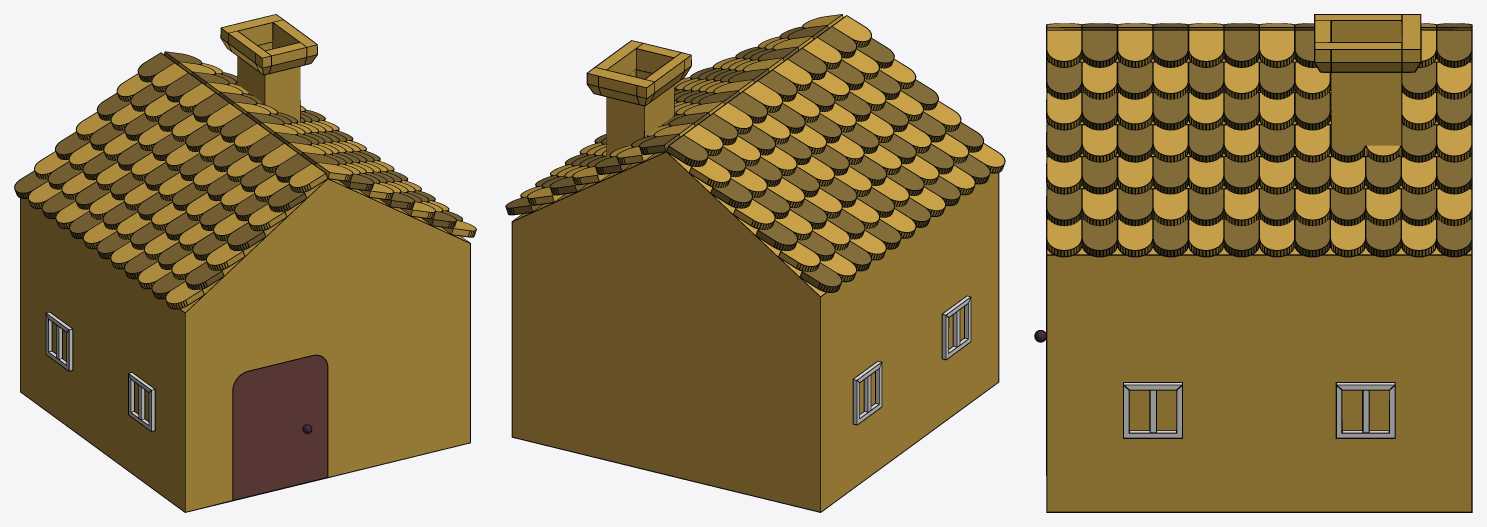
3 renders of one model, left to right at view 1: azimuth 30°, elevation 25°; view 2: azimuth 150°, elevation 25°; view 3: azimuth 270°, elevation 25°, orthographic. The views are drawn at different scales.
Visible parts, largest first — view 1: House.001, Bricks_Left.001, Door.001, Bricks_Right.001, Chimney.001, Window_Left_Left.001, Window_Left_Right.001; view 2: House.001, Bricks_Left.001, Bricks_Right.001, Chimney.001, Window_Left_Right.001, Window_Left_Left.001; view 3: House.001, Bricks_Right.001, Chimney.001, Bricks_Left.001, Window_Right_Right.001, Window_Right_Left.001.
Boxes of the visible parts, x1=… form: House.001: x1=20, y1=178, x2=470, y2=512; Bricks_Left.001: x1=14, y1=52, x2=327, y2=309; Door.001: x1=232, y1=355, x2=328, y2=500; Bricks_Right.001: x1=164, y1=51, x2=476, y2=237; Chimney.001: x1=220, y1=14, x2=317, y2=121; Window_Left_Left.001: x1=45, y1=312, x2=73, y2=371; Window_Left_Right.001: x1=128, y1=372, x2=155, y2=431; House.001: x1=511, y1=151, x2=999, y2=512; Bricks_Left.001: x1=666, y1=15, x2=1005, y2=292; Bricks_Right.001: x1=505, y1=14, x2=843, y2=215; Chimney.001: x1=586, y1=40, x2=691, y2=156; Window_Left_Right.001: x1=941, y1=295, x2=971, y2=360; Window_Left_Left.001: x1=852, y1=361, x2=882, y2=425; House.001: x1=1046, y1=57, x2=1472, y2=512; Bricks_Right.001: x1=1046, y1=29, x2=1472, y2=257; Chimney.001: x1=1314, y1=14, x2=1421, y2=155; Bricks_Left.001: x1=1046, y1=23, x2=1472, y2=68; Window_Right_Right.001: x1=1335, y1=382, x2=1395, y2=438; Window_Right_Left.001: x1=1123, y1=382, x2=1182, y2=438.
Size of the model in its own units: 6.47 by 6.73 by 6.18.
